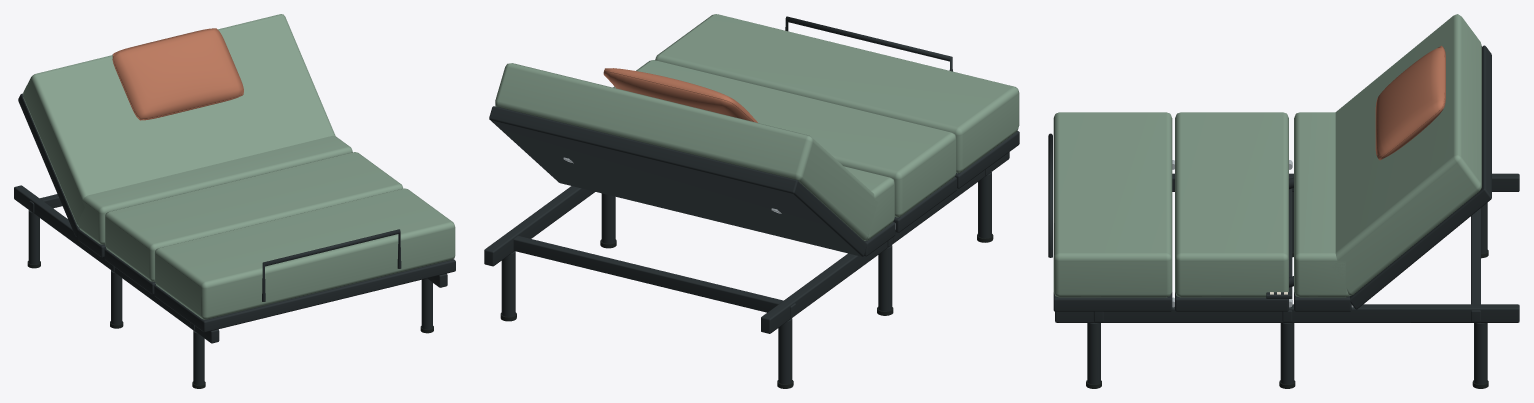
The model's file is adjustable-bed-base.glb.
The picture shows the model from 3 angles, left to right: view 1: azimuth 30°, elevation 25°; view 2: azimuth 150°, elevation 25°; view 3: azimuth 270°, elevation 25°; orthographic projection. The views are drawn at different scales.
Visible parts, largest first — view 1: catalog_surface_RealismUV, catalog_surface_UVMap; view 2: catalog_surface_RealismUV, catalog_surface_UVMap; view 3: catalog_surface_RealismUV, catalog_surface_UVMap.
Part boxes in pixels (<box>): catalog_surface_RealismUV: <box>23,14,455,388</box>; catalog_surface_UVMap: <box>14,93,455,385</box>; catalog_surface_RealismUV: <box>495,14,1019,388</box>; catalog_surface_UVMap: <box>484,16,1019,384</box>; catalog_surface_RealismUV: <box>1053,14,1488,388</box>; catalog_surface_UVMap: <box>1048,45,1519,384</box>.
Size of the model in its own units: 1.53 by 1.19 by 2.05.
